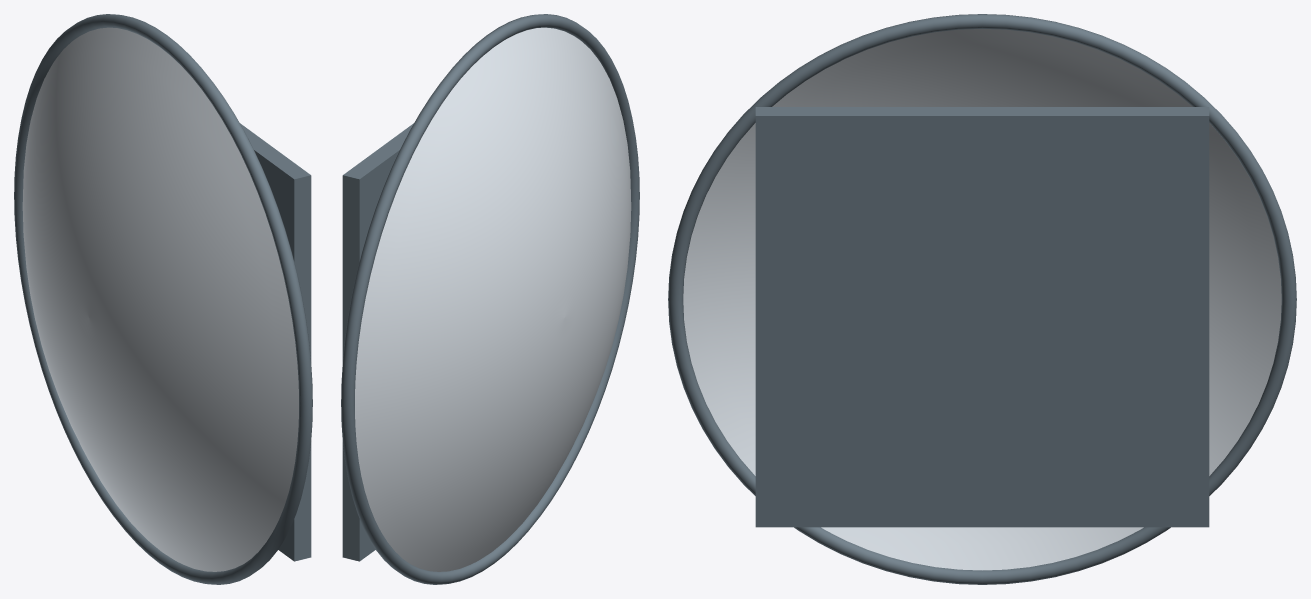
The model's file is mirror-concave.glb.
3 views of the same model, side by side, from view 1: azimuth 30°, elevation 25°; view 2: azimuth 150°, elevation 25°; view 3: azimuth 270°, elevation 25° (orthographic). The views are drawn at different scales.
Visible parts, largest first — view 1: mirror surface, mirror rim, mirror back; view 2: mirror surface, mirror rim, mirror back; view 3: mirror back, mirror surface, mirror rim.
Part boxes in pixels (bbox=[...]): mirror surface: bbox=[22, 27, 298, 571]; mirror rim: bbox=[14, 14, 312, 584]; mirror back: bbox=[240, 123, 311, 561]; mirror surface: bbox=[355, 27, 631, 571]; mirror rim: bbox=[341, 14, 639, 584]; mirror back: bbox=[342, 123, 413, 561]; mirror back: bbox=[755, 107, 1209, 527]; mirror surface: bbox=[683, 29, 1281, 570]; mirror rim: bbox=[668, 14, 1296, 584].
Bounding box in the file's own units: 0.345 × 1.5 × 1.5.
